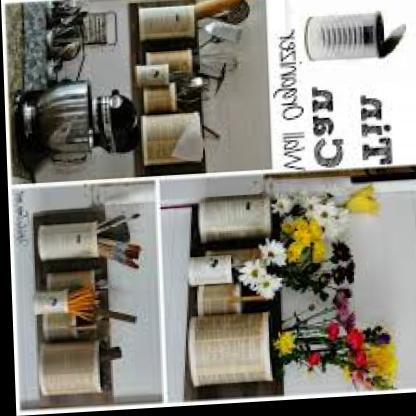Metal: (286, 6, 408, 78)
